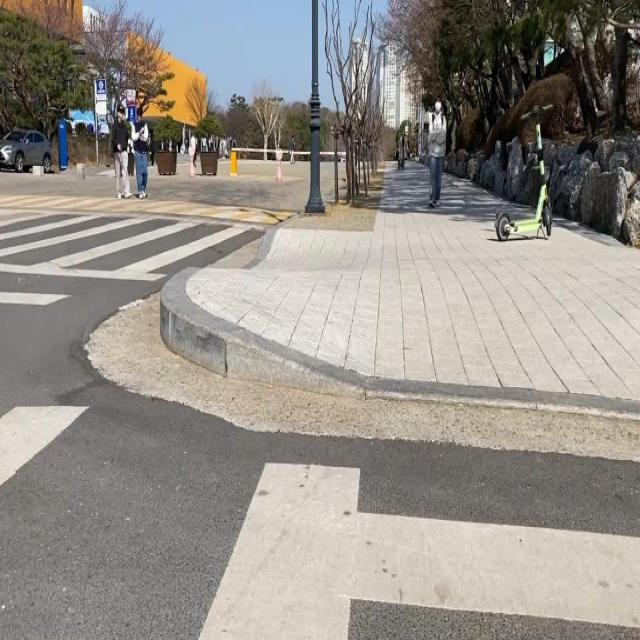sidewalk: (186, 163, 640, 401)
